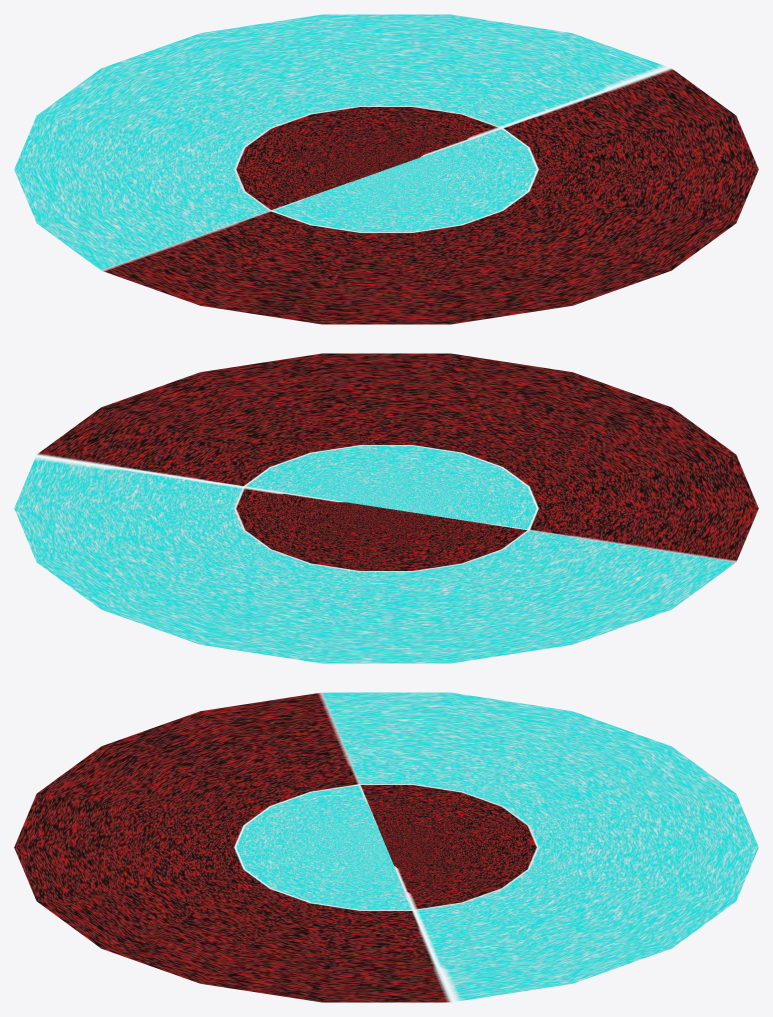
The picture shows the model from 3 angles, top to bottom: view 1: azimuth 30°, elevation 25°; view 2: azimuth 150°, elevation 25°; view 3: azimuth 270°, elevation 25°; orthographic projection.
Visible parts, largest first — view 1: SM_VFX_Circle_LOD0; view 2: SM_VFX_Circle_LOD0; view 3: SM_VFX_Circle_LOD0.
Boxes of the visible parts, x1=… form: SM_VFX_Circle_LOD0: x1=14, y1=14, x2=758, y2=324; SM_VFX_Circle_LOD0: x1=14, y1=353, x2=758, y2=663; SM_VFX_Circle_LOD0: x1=14, y1=692, x2=758, y2=1002.
Size of the model in its own units: 2.41 by 0 by 2.44.
Materials: 1 (1 with a texture image).
